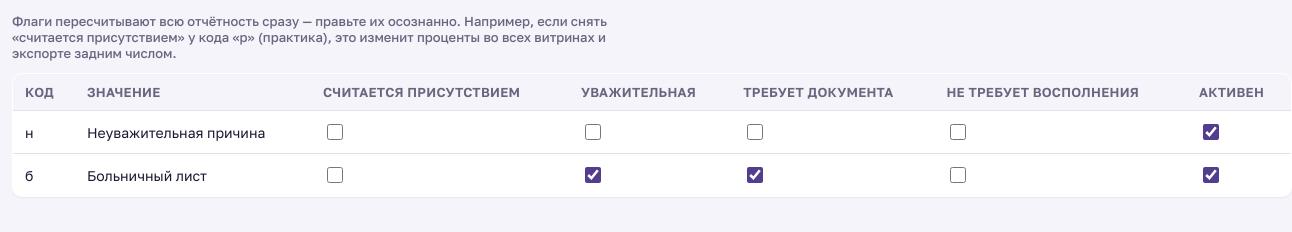
Scenario: MarkCodesTab › ошибка сохранения показывается
Expected: the text "Неуважительная причина" is shown, [75,110,311,154]
Click the checkbox named "н: считается присутствием": click(335, 132) [327,124,343,140]
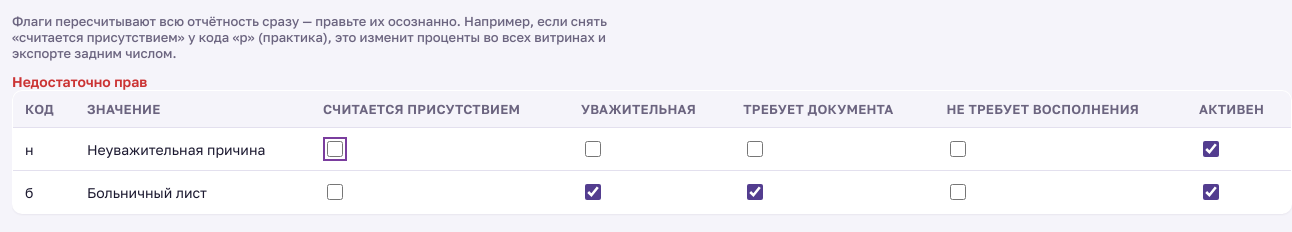
Expected: the text "Недостаточно прав" is shown, [12,73,147,90]
